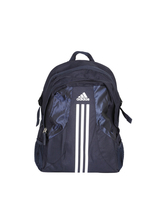bag: (26, 51, 138, 178)
